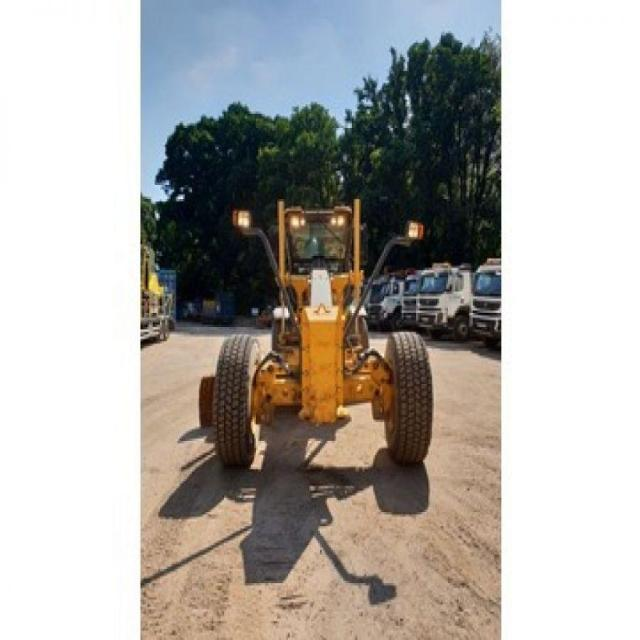buldozerpayloadergrader: (190, 171, 450, 496)
